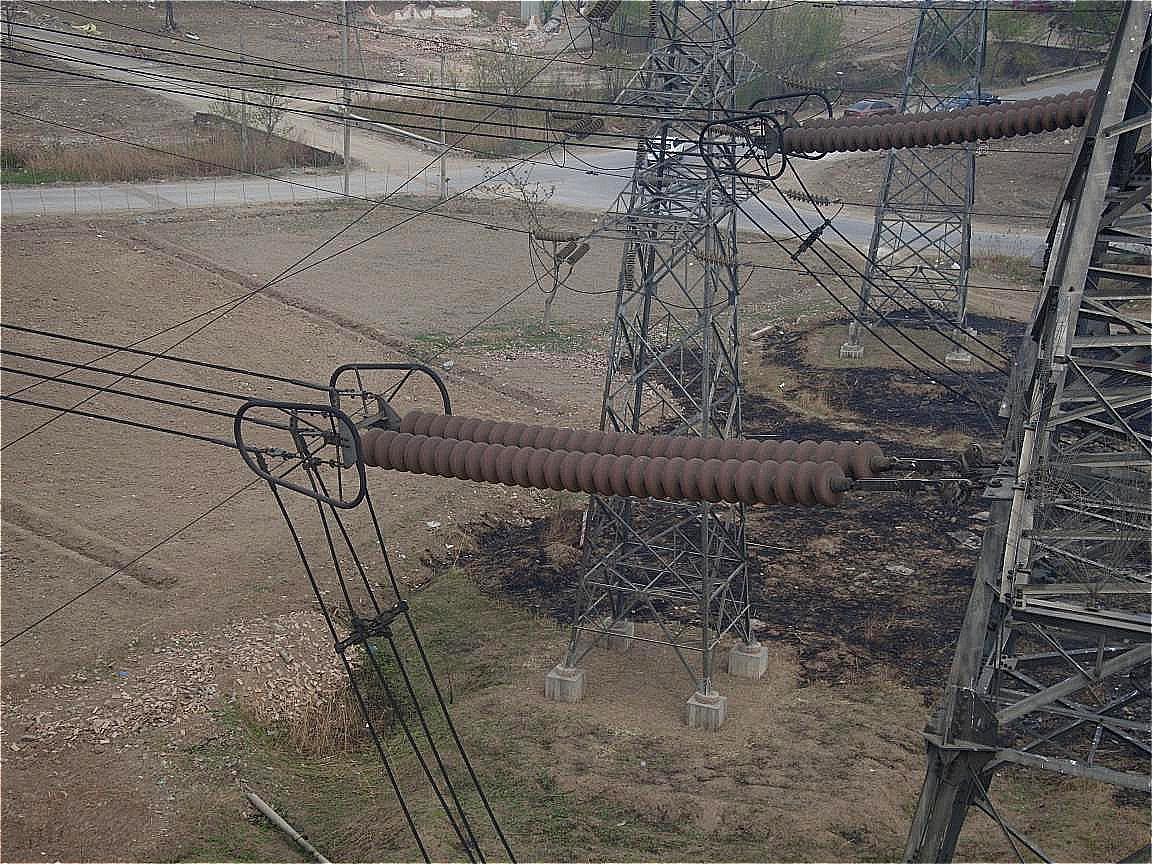insultor1: (317, 397, 899, 520)
